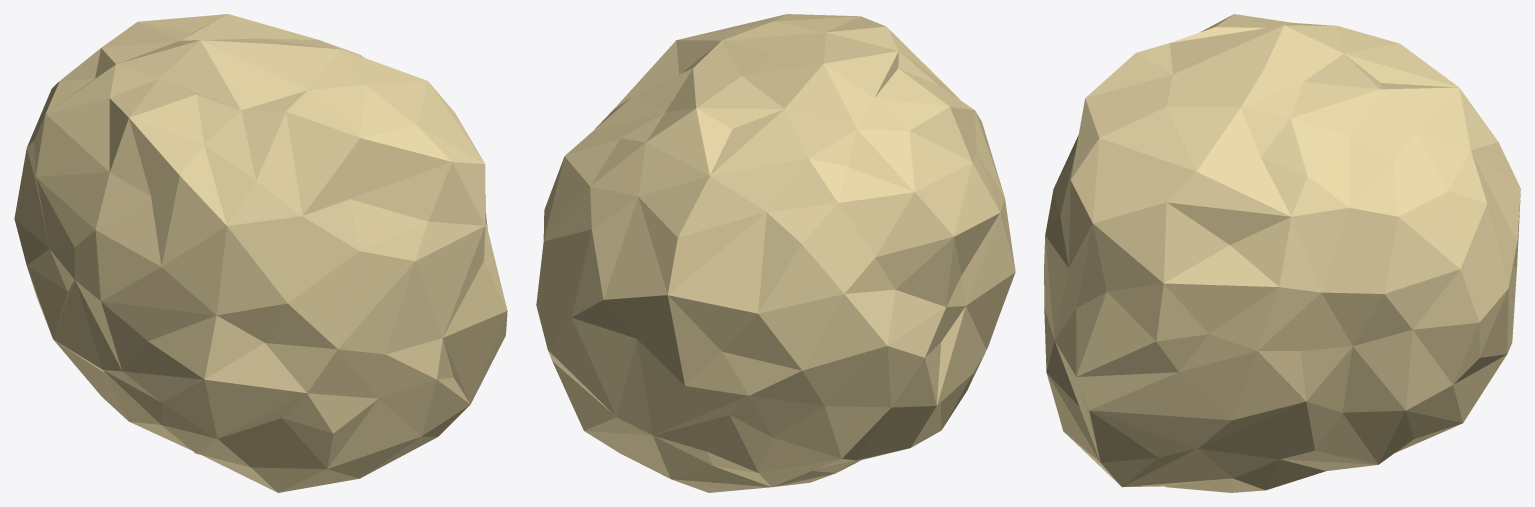
The model's file is Asteroid (93).fbx.
3 renders of one model, left to right at view 1: azimuth 30°, elevation 25°; view 2: azimuth 150°, elevation 25°; view 3: azimuth 270°, elevation 25°, orthographic. The views are drawn at different scales.
Visible parts, largest first — view 1: Asteroid175; view 2: Asteroid175; view 3: Asteroid175.
Part boxes in pixels (x1,y1,x2,y2): Asteroid175: (14,14,507,492); Asteroid175: (536,14,1015,492); Asteroid175: (1044,14,1520,492).
Size of the model in its own units: 447 by 473 by 488.
